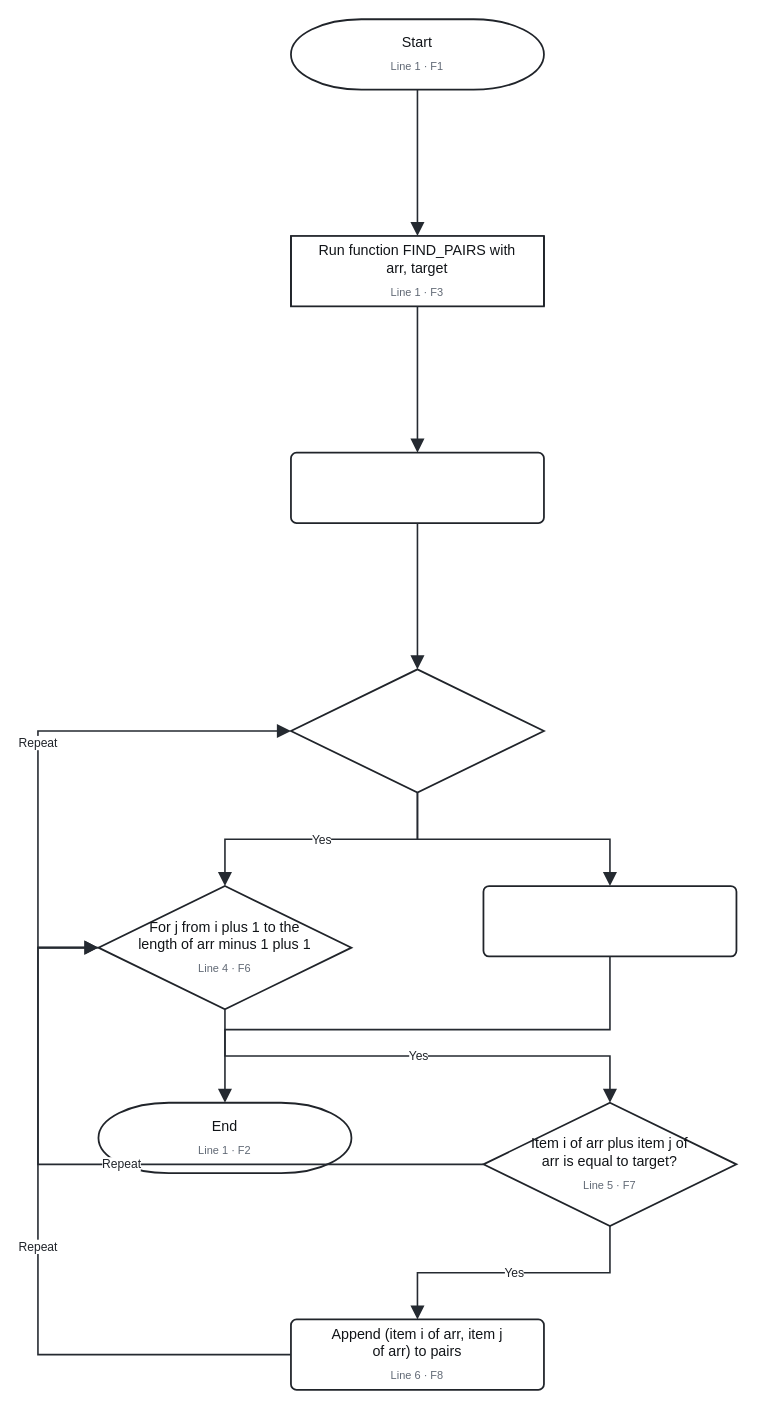
This 757x1410 diagram has some shape labels left out. Here are the shapes that lost their labels. From the top down, the centre of each, then its label:
At point (417, 487): "Set pairs to an empty list Line 2 · F4".
At point (417, 730): "For i from 0 to the length of arr minus 1 plus 1 Line 3 · F5".
At point (609, 921): "Return pairs Line 10 · F9".
